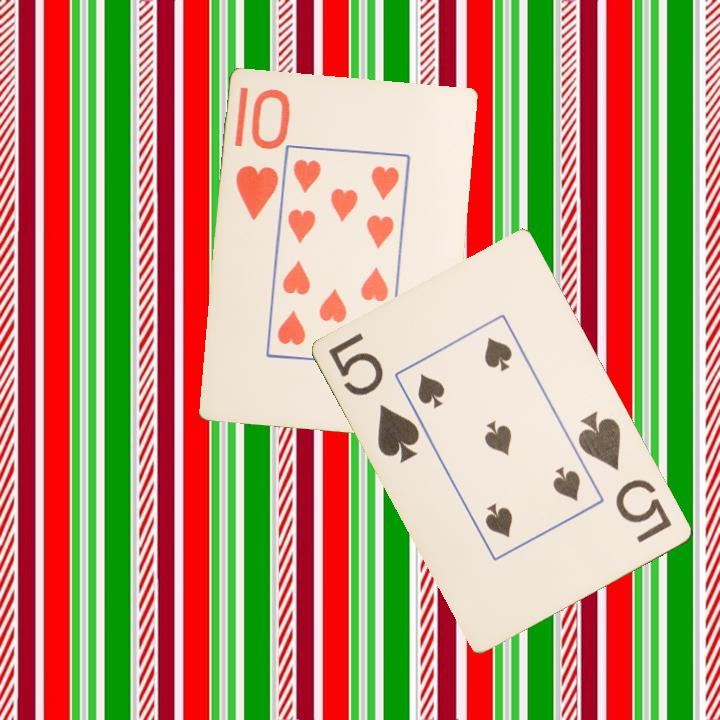10h: (233, 85, 289, 224)
5s: (574, 407, 676, 546), (325, 329, 424, 467)
